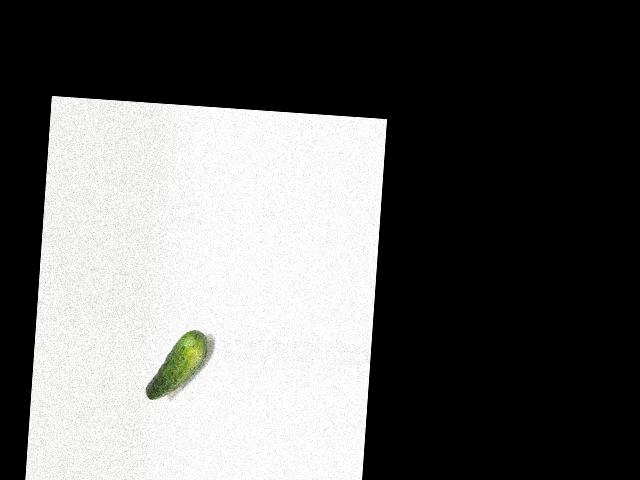cucumber: (145, 327, 208, 403)
